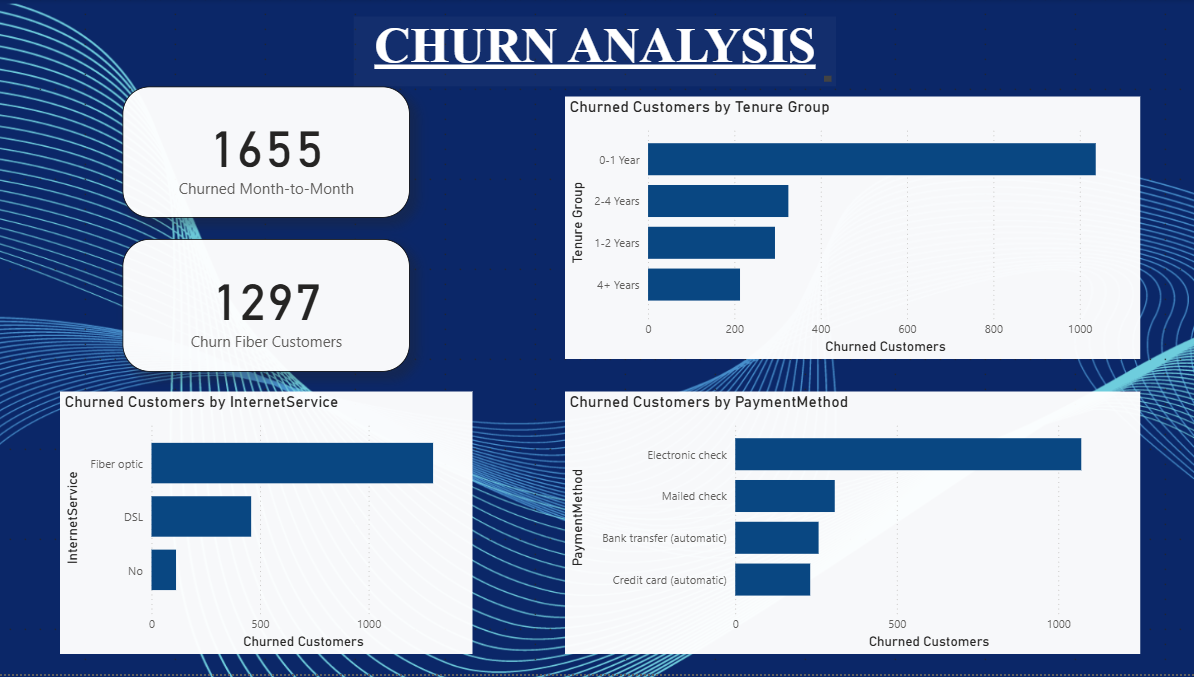

The dashboard page shown, as its layout file describes it:
{"tool":"powerbi","page":{"name":"Churn Analysis","canvas":[1280,720],"ordinal":1},"visuals":[{"type":"barChart","fields":{"Y":["WA_Fn-UseC_-Telco-Customer-Chur.Churned Customers"],"Category":["WA_Fn-UseC_-Telco-Customer-Chur.InternetService"]},"box":[69.3,418.7,440,280],"z":0},{"type":"barChart","fields":{"Category":["WA_Fn-UseC_-Telco-Customer-Chur.PaymentMethod"],"Y":["WA_Fn-UseC_-Telco-Customer-Chur.Churned Customers"]},"box":[608,418.7,613.3,280],"z":1000},{"type":"barChart","fields":{"Y":["WA_Fn-UseC_-Telco-Customer-Chur.Churned Customers"],"Category":["WA_Fn-UseC_-Telco-Customer-Chur.Tenure Group"]},"box":[608,104,613.3,280],"z":2000},{"type":"card","fields":{"Values":["WA_Fn-UseC_-Telco-Customer-Chur.Churned Month-to-Month"]},"box":[136,93.3,306.7,140],"z":3000},{"type":"card","fields":{"Values":["WA_Fn-UseC_-Telco-Customer-Chur.Churn Fiber Customers"]},"box":[136,256,306.7,141.3],"z":4000},{"type":"textbox","title":"CHURN ANALYSIS","box":[382.7,18.7,514.7,74.7],"z":4001}]}

Visuals, with their boxes in screenshot pixels (x1, y1, x2, y2), scaled from the page's 1280x720 canvas onto the 1194x677 screenshot:
barChart - WA_Fn-UseC_-Telco-Customer-Chur.Churned Customers x WA_Fn-UseC_-Telco-Customer-Chur.InternetService: x1=65 y1=394 x2=475 y2=657
barChart - WA_Fn-UseC_-Telco-Customer-Chur.PaymentMethod x WA_Fn-UseC_-Telco-Customer-Chur.Churned Customers: x1=567 y1=394 x2=1139 y2=657
barChart - WA_Fn-UseC_-Telco-Customer-Chur.Churned Customers x WA_Fn-UseC_-Telco-Customer-Chur.Tenure Group: x1=567 y1=98 x2=1139 y2=361
card - WA_Fn-UseC_-Telco-Customer-Chur.Churned Month-to-Month: x1=127 y1=88 x2=413 y2=219
card - WA_Fn-UseC_-Telco-Customer-Chur.Churn Fiber Customers: x1=127 y1=241 x2=413 y2=374
"CHURN ANALYSIS" textbox: x1=357 y1=18 x2=837 y2=88
